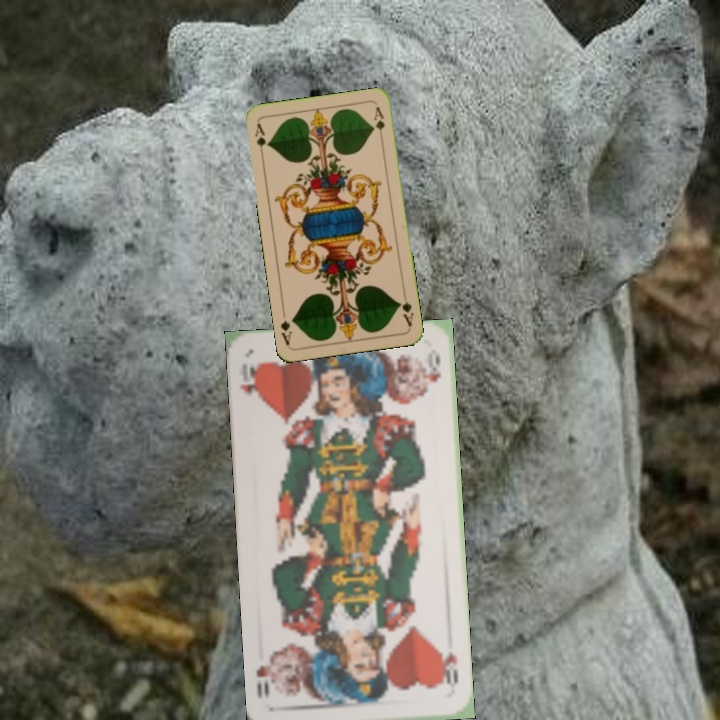GA: (395, 289, 416, 329), (250, 119, 271, 159)
HO: (236, 359, 262, 400), (436, 647, 461, 687)
